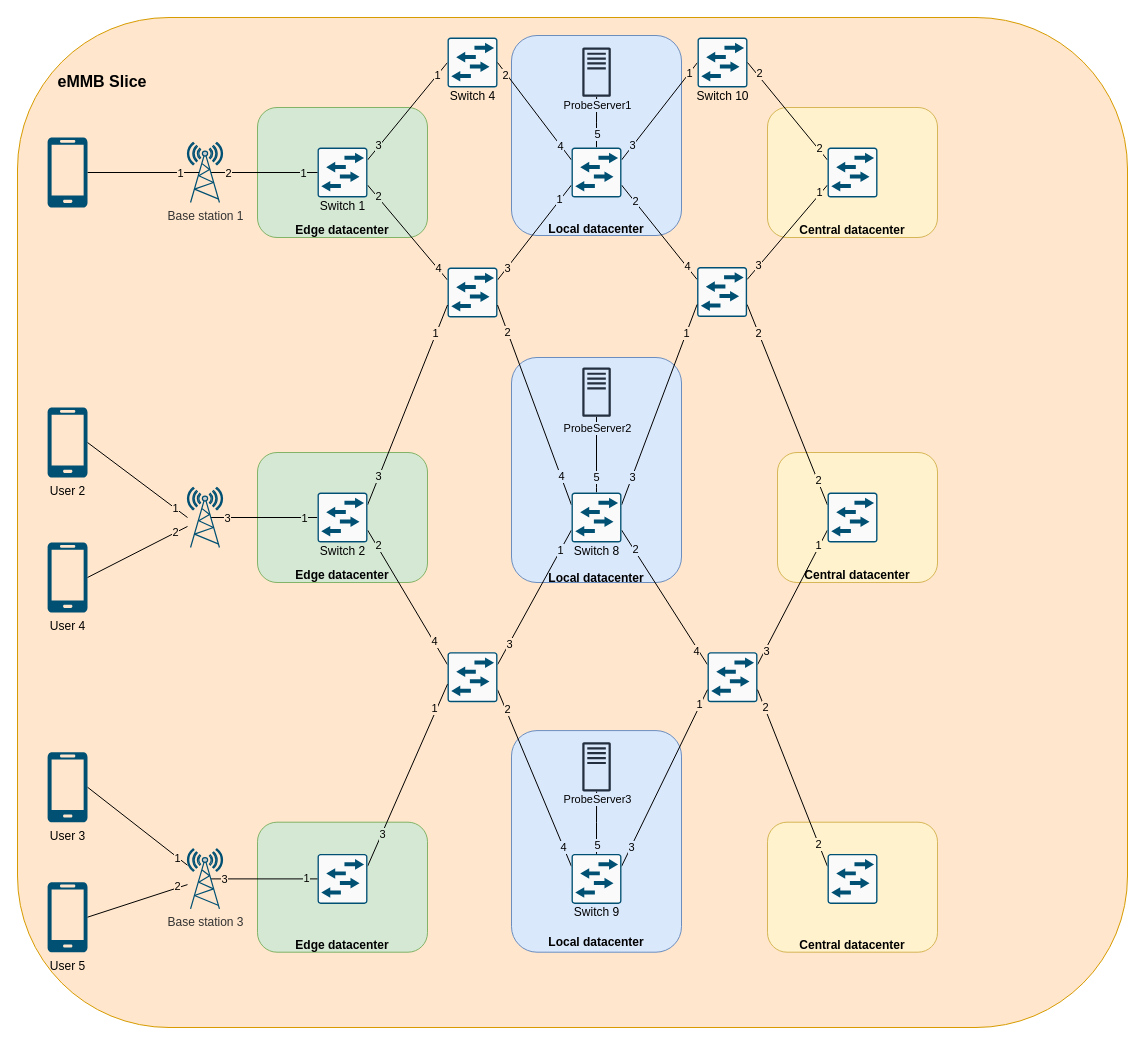
This 1145x1045 diagram has some shape labels left out. The shapes that lost their labels are listed below. From the top down, each one's centre as x and y in pixels, then its label:
[67,172]: User 1
[596,172]: Switch 7
[852,172]: Switch 13
[472,292]: Switch 5
[721,291]: Switch 11
[204,517]: Base station 2
[852,517]: Switch 14
[472,676]: Switch 6
[732,676]: Switch 12
[342,878]: Switch 3
[852,878]: Switch 15
